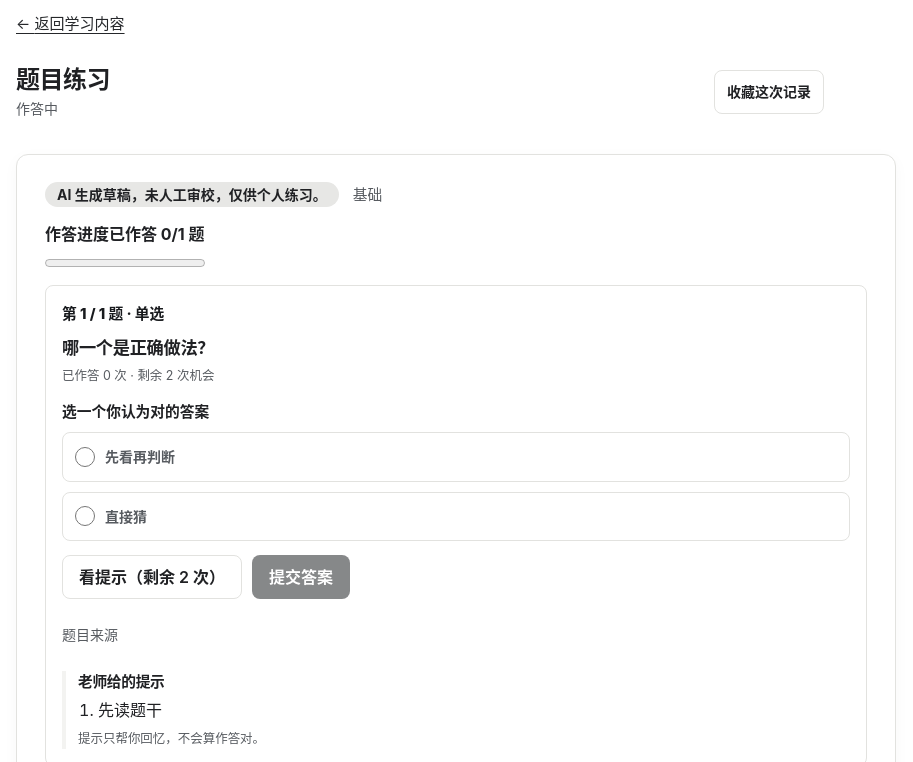
Test: server-driven answers (T17 J2/J3/J6) › drives the hint button from the server counters and posts the next level
Click the button with test id "quiz-hint".
click(152, 577)  # box [62,555,242,599]
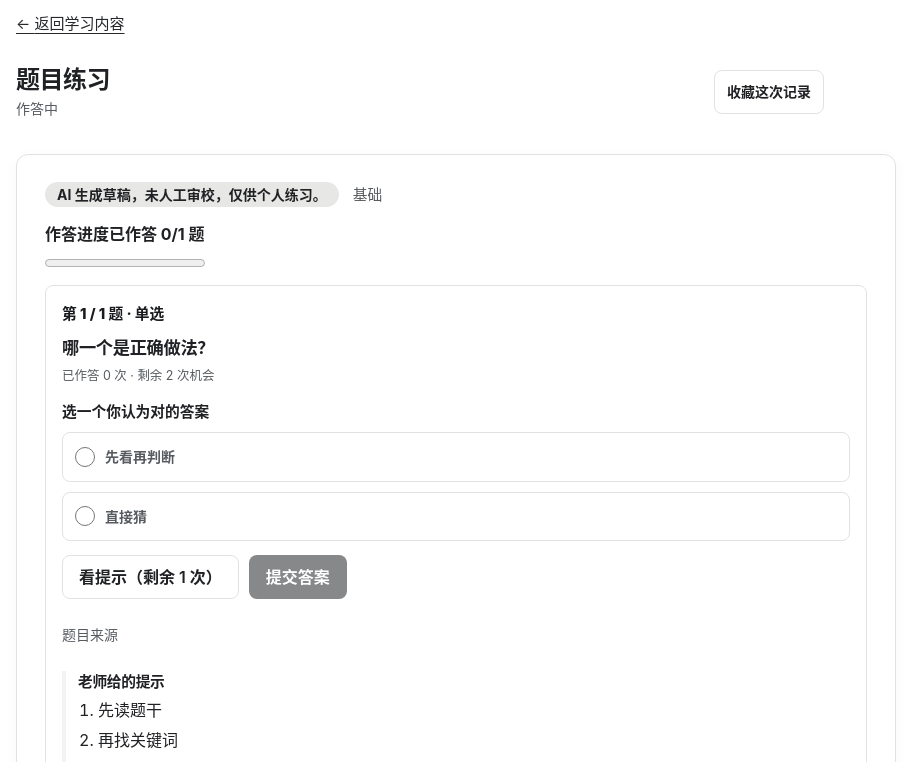
Expected: the text with test id "quiz-attempts" shows "已作答 0 次", [62,368,214,383]
Expected: the element with test id "quiz-hints" shows "再找关键词", [98,730,178,750]
